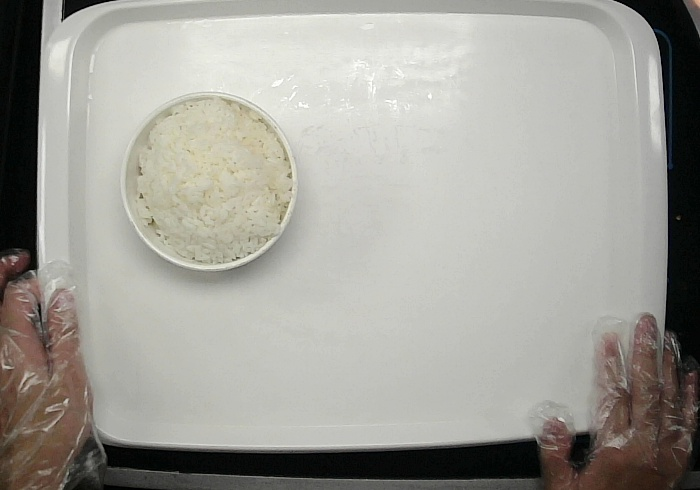HZYJPL-Fan_Wan: (120, 90, 299, 272)
